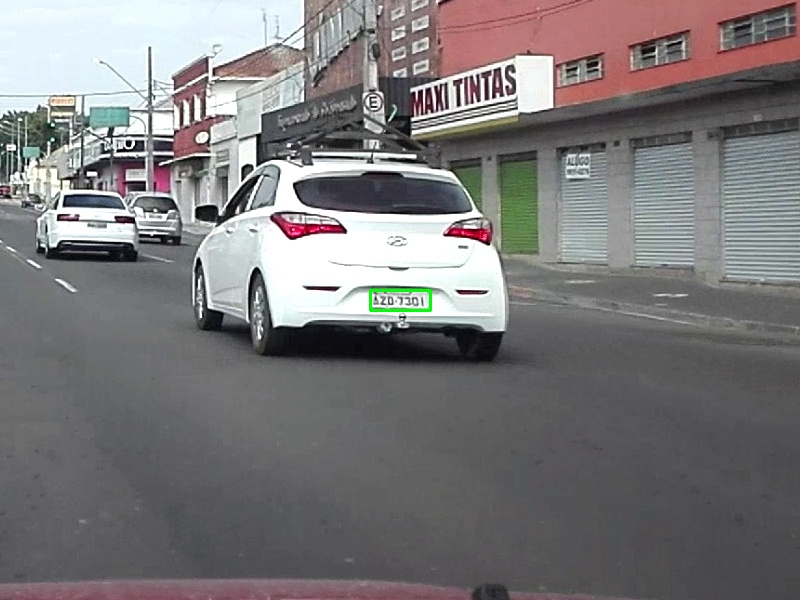placa: (370, 290, 430, 310)
